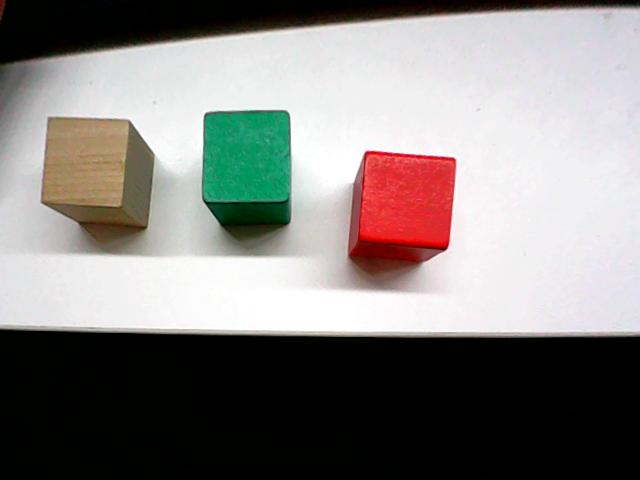green_box: (198, 105, 295, 229)
raw_box: (35, 109, 162, 231)
red_box: (345, 145, 459, 266)
